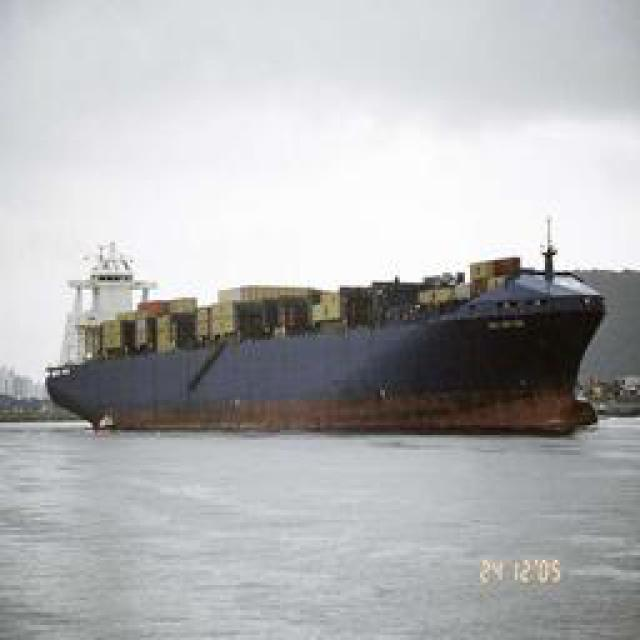Ship: (51, 223, 601, 438)
